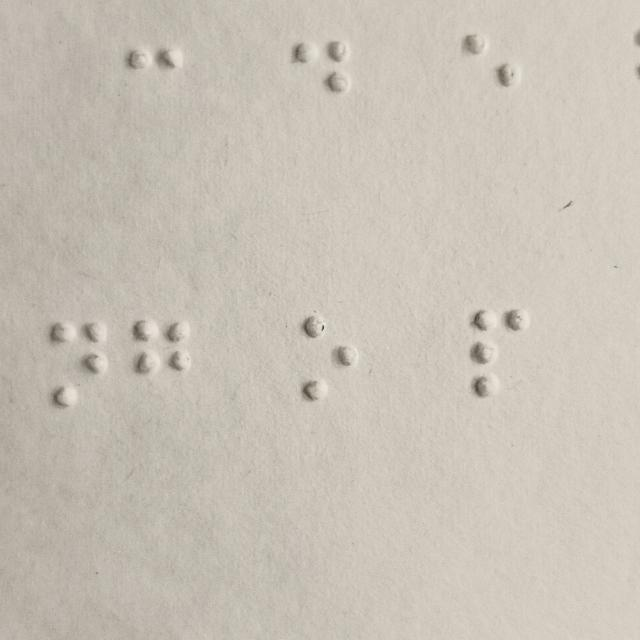letter_c: (128, 46, 181, 132)
letter_d: (295, 41, 347, 126)
letter_e: (464, 33, 516, 118)
letter_g: (135, 321, 188, 406)
letter_n: (53, 323, 105, 408)
letter_o: (303, 318, 355, 404)
letter_p: (472, 308, 526, 397)
